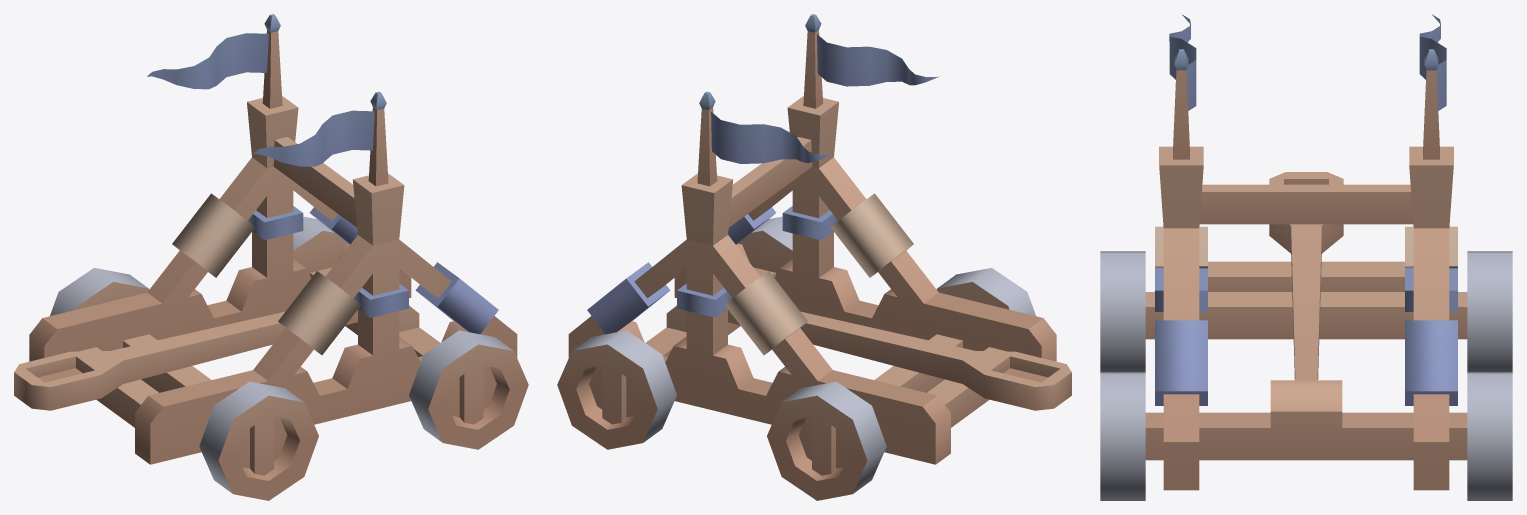
Rendered from siege-catapult.glb.
3 renders of one model, left to right at view 1: azimuth 30°, elevation 25°; view 2: azimuth 150°, elevation 25°; view 3: azimuth 270°, elevation 25°, orthographic. The views are drawn at different scales.
Visible parts, largest first — view 1: siege-catapult, wheel (×4), catapult; view 2: siege-catapult, wheel (×4), catapult; view 3: siege-catapult, wheel (×4), catapult.
Boxes of the visible parts, box(x1,y1,x2,y2) form: siege-catapult: box(29, 14, 517, 464); wheel (×4): box(50, 216, 528, 500); catapult: box(14, 309, 357, 410); siege-catapult: box(568, 14, 1056, 464); wheel (×4): box(557, 216, 1035, 500); catapult: box(728, 309, 1071, 410); siege-catapult: box(1145, 14, 1467, 490); wheel (×4): box(1100, 251, 1512, 500); catapult: box(1269, 172, 1343, 380).
Size of the model in its own units: 1.73 by 1.33 by 1.21.
